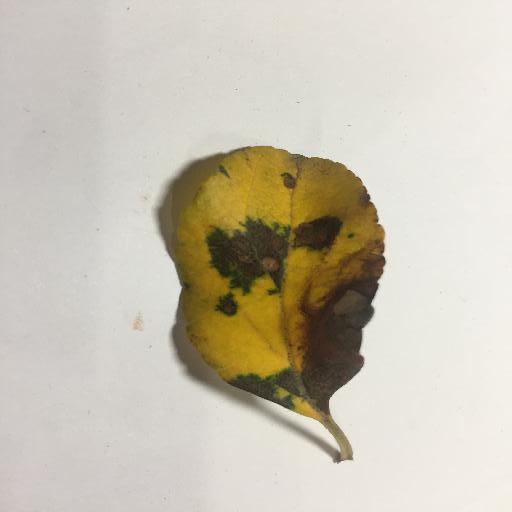Brown_Spot: (299, 271, 352, 407), (204, 238, 283, 276), (298, 223, 338, 244), (219, 297, 236, 315), (280, 176, 292, 187)
